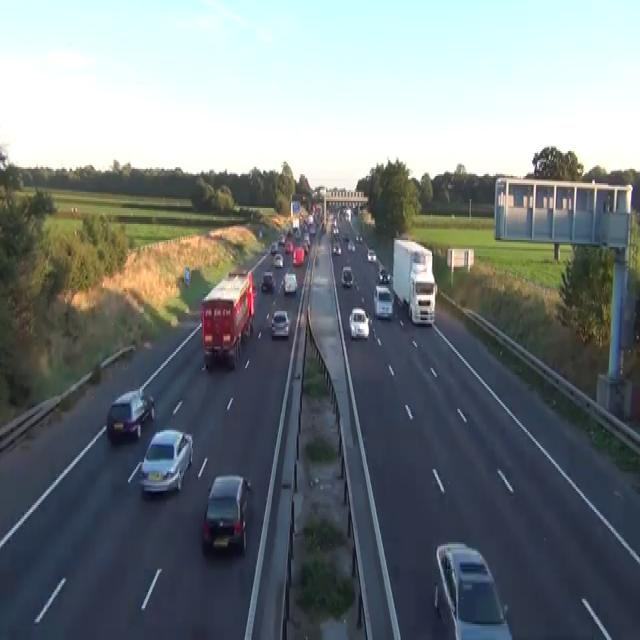Car: (433, 540, 513, 638), (201, 473, 251, 555), (138, 428, 193, 496), (106, 387, 155, 441), (348, 308, 369, 340), (270, 309, 290, 338), (260, 270, 275, 292), (283, 272, 297, 293), (341, 265, 353, 286), (292, 245, 304, 265), (378, 266, 391, 282), (294, 238, 306, 252), (273, 252, 283, 266), (367, 247, 376, 261), (270, 240, 278, 254), (332, 242, 341, 254), (285, 240, 293, 252), (347, 240, 355, 251), (278, 233, 285, 245), (303, 235, 310, 247), (342, 231, 349, 242), (272, 217, 280, 226), (302, 240, 308, 252), (252, 284, 257, 297), (355, 233, 362, 242), (352, 205, 358, 215), (332, 226, 339, 234), (309, 226, 316, 234), (294, 230, 300, 238), (286, 230, 292, 237), (258, 228, 262, 238)
Truck: (200, 268, 254, 370), (392, 237, 437, 326), (373, 283, 393, 318)
